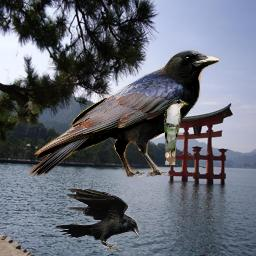Crow: (29, 48, 220, 177), (52, 187, 140, 251)
Cuckoo: (163, 99, 189, 165)
